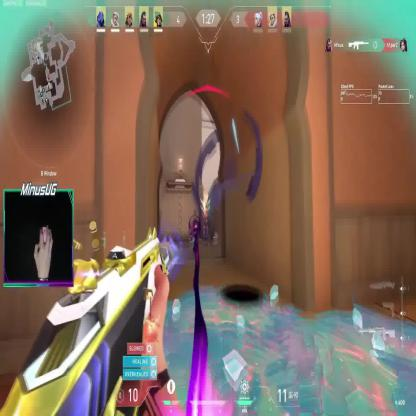enemy: (202, 207, 209, 240)
enemy_head: (203, 207, 208, 216)
